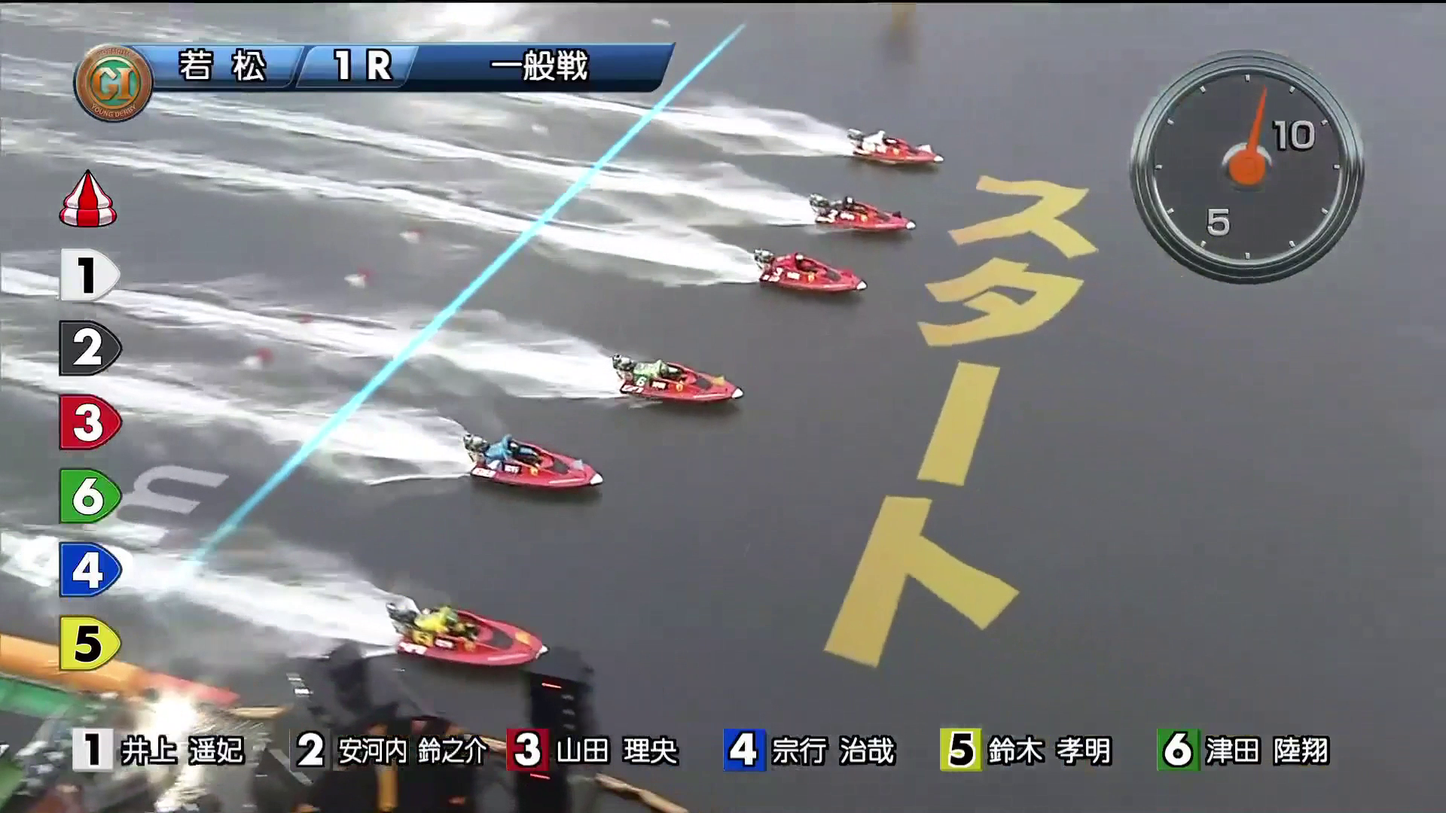１号艇: (815, 147, 895, 193)
２号艇: (840, 210, 902, 248)
３号艇: (787, 260, 842, 301)
４号艇: (644, 363, 709, 406)
５号艇: (506, 457, 574, 495)
６号艇: (450, 628, 515, 675)
